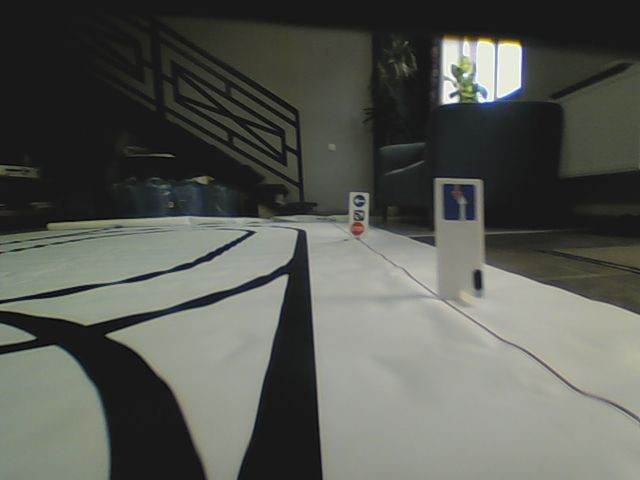Stop: (349, 223, 367, 235)
priority_movement: (441, 181, 475, 222)
